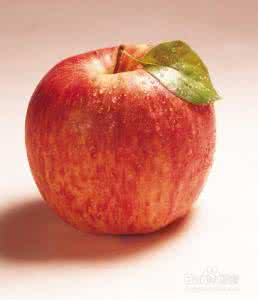apple: (26, 39, 220, 234)
